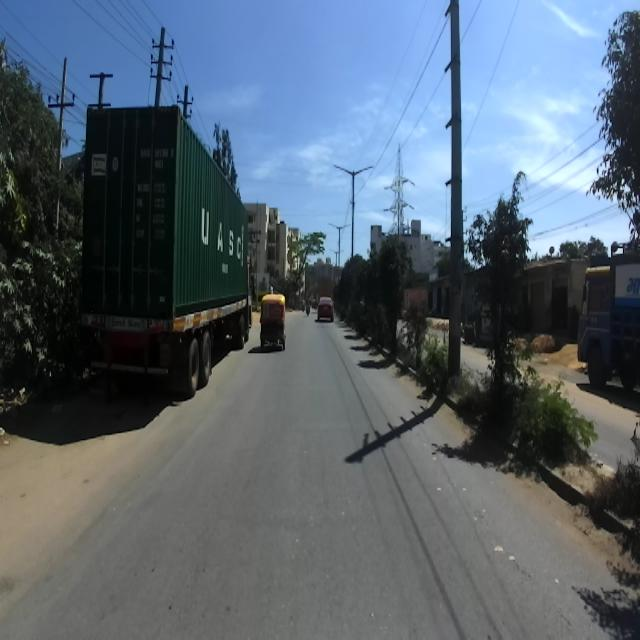truck ahead at: (71, 95, 256, 407)
